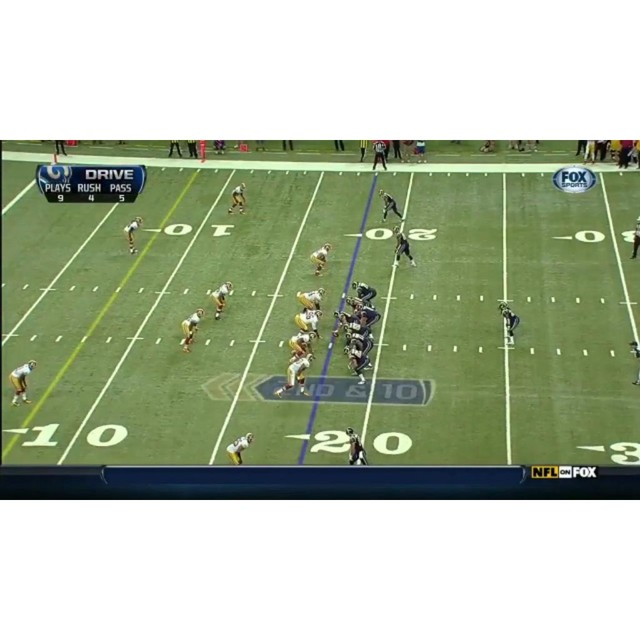american-football-player: (274, 353, 315, 398), (9, 360, 37, 406), (180, 308, 205, 353), (498, 300, 520, 348), (344, 345, 370, 384), (208, 282, 234, 321), (392, 226, 416, 268), (346, 426, 369, 466), (227, 432, 254, 465), (295, 308, 322, 340), (288, 331, 317, 360), (378, 190, 404, 222), (351, 301, 381, 327), (296, 288, 326, 313), (310, 243, 332, 276), (124, 216, 143, 254), (228, 182, 247, 215), (352, 281, 377, 305)
referee: (628, 340, 640, 387), (371, 140, 389, 171), (630, 219, 640, 260)
